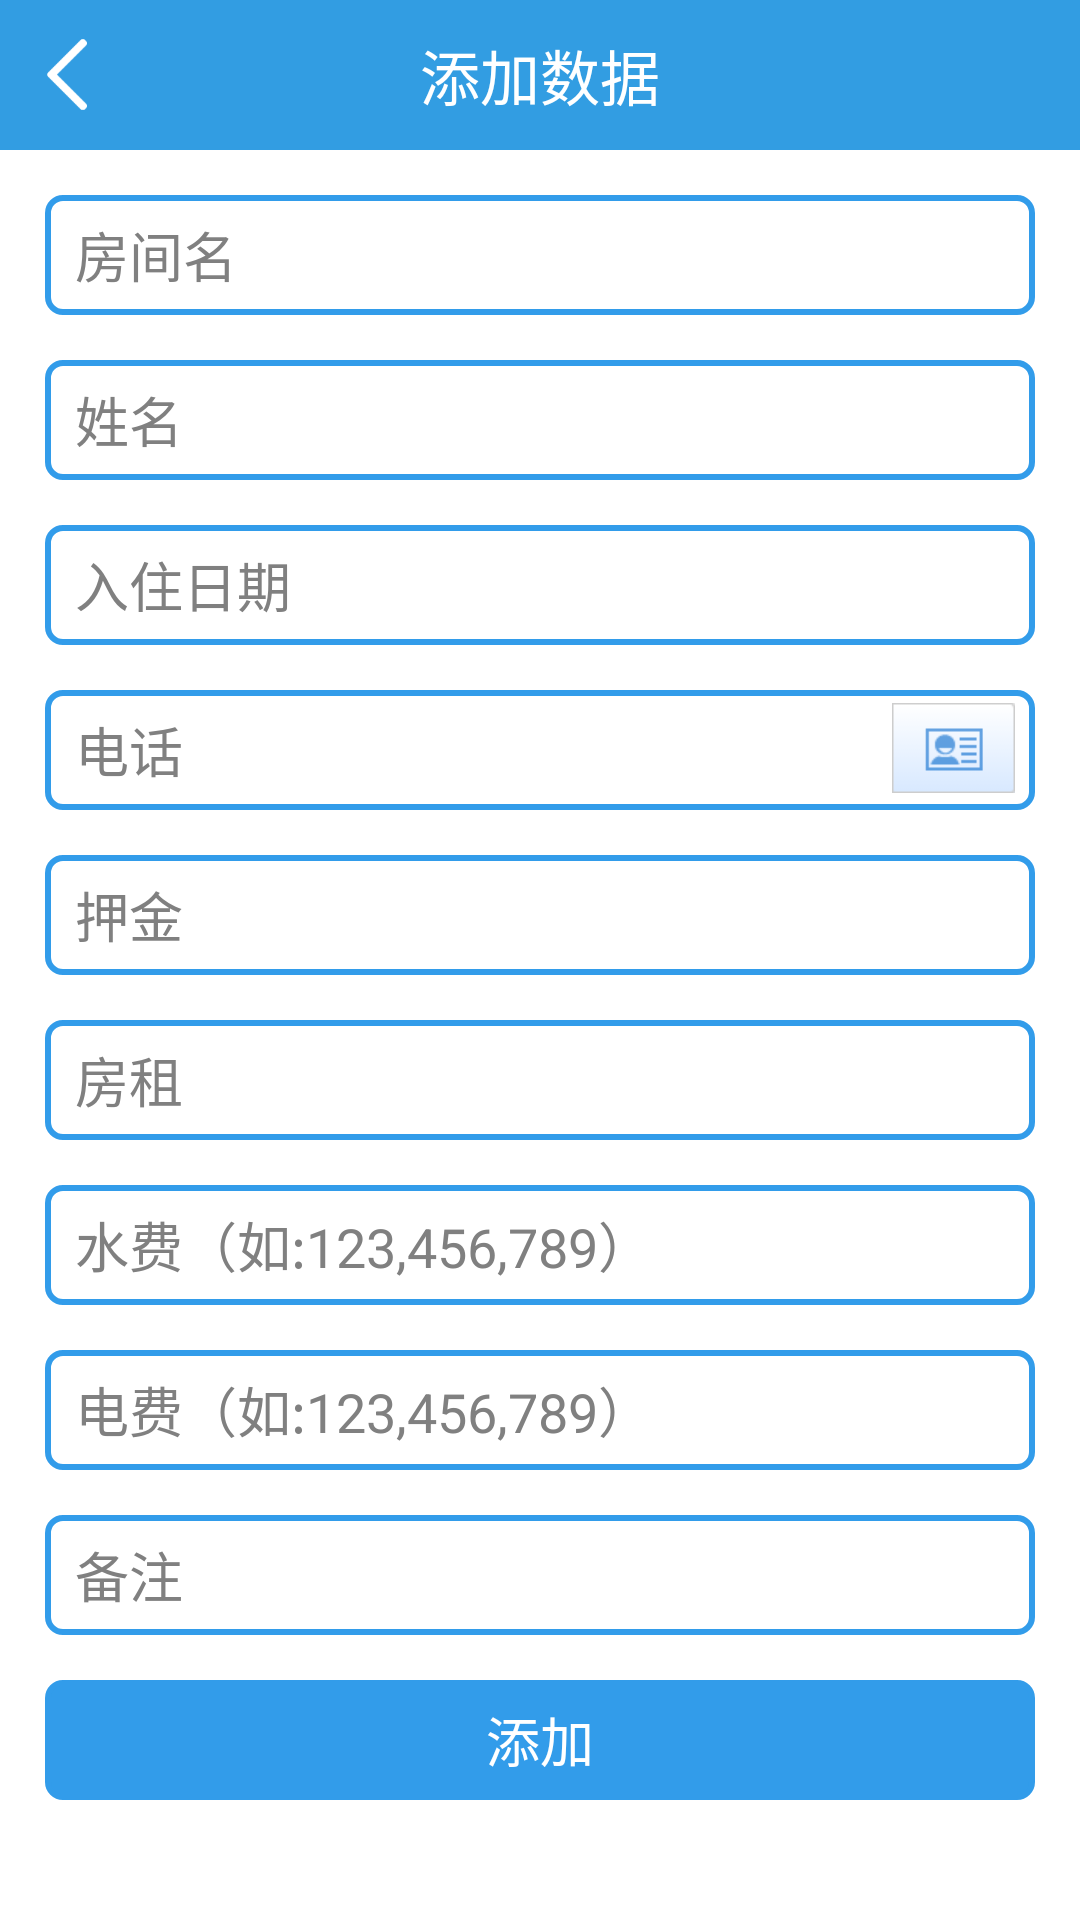

Screen size 1080px×1920px. Icon name, then its box in pixels as [x1, y1, x2, y2]:
left: [47, 39, 87, 110]
